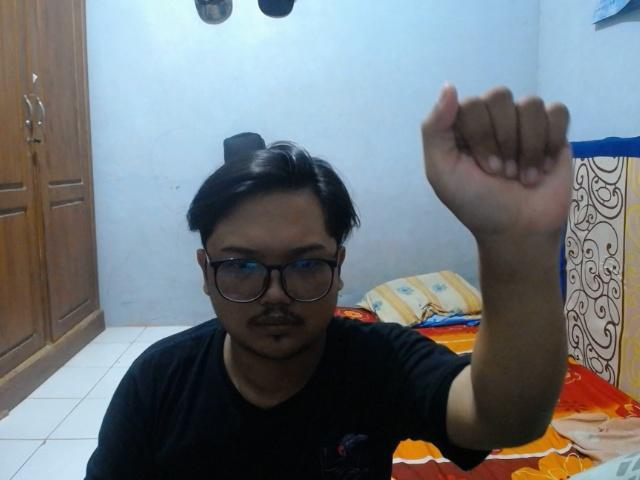Grab: (413, 73, 587, 247)
